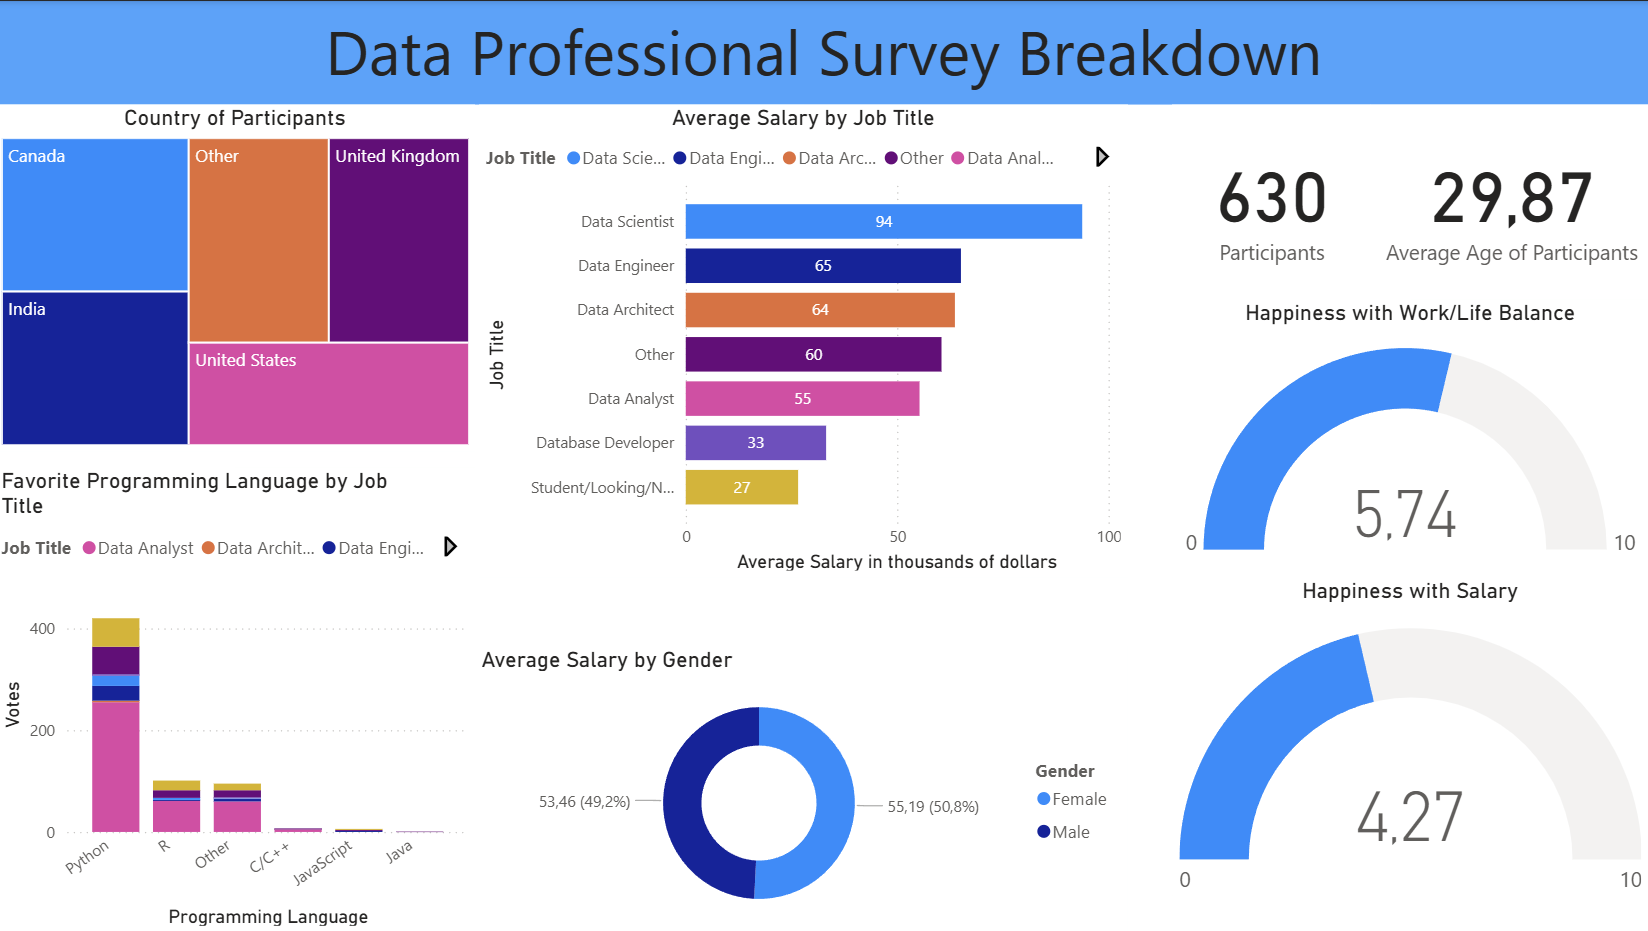

Layout of this report page (visuals, bound fields, positions):
{"tool":"powerbi","page":{"name":"Page 1","canvas":[1280,720],"ordinal":0},"visuals":[{"type":"textbox","box":[0,0,1280.4,80],"z":0},{"type":"card","fields":{"Values":["CountNonNull(Data Professional Survey.Unique ID)"]},"box":[909.6,80,153,150.6],"z":1000},{"type":"card","fields":{"Values":["Avg(Data Professional Survey.Q10 - Current Age)"]},"box":[1062.6,80,217.8,150.6],"z":2000},{"type":"barChart","title":"Average Salary by Job Title","fields":{"Y":["Avg(Data Professional Survey.Average Salary)"],"Category":["Data Professional Survey.Q1 - Which Title Best Fits your Current Role?.1"],"Series":["Data Professional Survey.Q1 - Which Title Best Fits your Current Role?.1"]},"box":[374.3,80,500.6,365],"z":3000},{"type":"columnChart","title":"Favorite Programming Language by Job Title","fields":{"Category":["Data Professional Survey.Q5 - Favorite Programming Language.1"],"Y":["CountNonNull(Data Professional Survey.Unique ID)"],"Series":["Data Professional Survey.Q1 - Which Title Best Fits your Current Role?.1"]},"box":[0,360.4,370.8,359.2],"z":4000},{"type":"treemap","title":"Country of Participants","fields":{"Group":["Data Professional Survey.Q11 - Which Country do you live in?.1"],"Values":["Count(Data Professional Survey.Q11 - Which Country do you live in?.1)"]},"box":[0,80,370.8,267.7],"z":4001},{"type":"gauge","title":"Happiness with Work/Life Balance","fields":{"Y":["Avg(Data Professional Survey.Q6 - How Happy are you in your Current Position with the following? (Work/Life Balance))"],"MinValue":["Min(Data Professional Survey.Q6 - How Happy are you in your Current Position with the following? (Work/Life Balance))"],"MaxValue":["Max(Data Professional Survey.Q6 - How Happy are you in your Current Position with the following? (Work/Life Balance))1"]},"box":[909.6,230.6,367.3,214.4],"z":4002},{"type":"gauge","title":"Happiness with Salary","fields":{"Y":["Avg(Data Professional Survey.Q6 - How Happy are you in your Current Position with the following? (Salary))"],"MinValue":["Min(Data Professional Survey.Q6 - How Happy are you in your Current Position with the following? (Salary))"],"MaxValue":["Max(Data Professional Survey.Q6 - How Happy are you in your Current Position with the following? (Salary))1"]},"box":[909.6,445,367.3,267.7],"z":4003},{"type":"donutChart","title":" Average Salary by Gender","fields":{"Category":["Data Professional Survey.Q9 - Male/Female?"],"Y":["Avg(Data Professional Survey.Average Salary)"]},"box":[370.8,498.3,504,221.3],"z":4004}]}

Visuals, with their boxes in screenshot pixels (x1, y1, x2, y2), scaled from the page's 1280x720 canvas onto the 1648x931 screenshot:
textbox: box=[0, 0, 1647, 103]
card - CountNonNull(Data Professional Survey.Unique ID): box=[1171, 103, 1368, 298]
card - Avg(Data Professional Survey.Q10 - Current Age): box=[1368, 103, 1647, 298]
"Average Salary by Job Title" barChart: box=[482, 103, 1126, 575]
"Favorite Programming Language by Job Title" columnChart: box=[0, 466, 477, 930]
"Country of Participants" treemap: box=[0, 103, 477, 450]
"Happiness with Work/Life Balance" gauge: box=[1171, 298, 1644, 575]
"Happiness with Salary" gauge: box=[1171, 575, 1644, 922]
" Average Salary by Gender" donutChart: box=[477, 644, 1126, 930]
